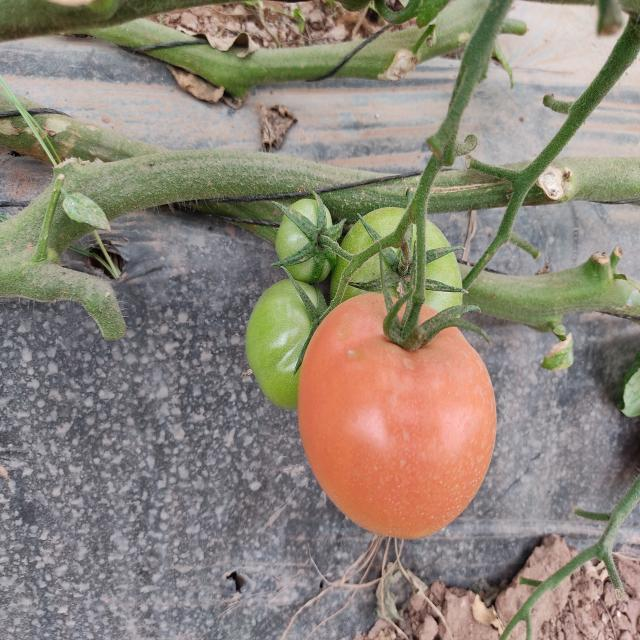Ripe Tomato: (298, 288, 498, 534)
Unripe Tomato: (327, 211, 468, 322), (249, 278, 334, 412), (278, 200, 338, 276)
